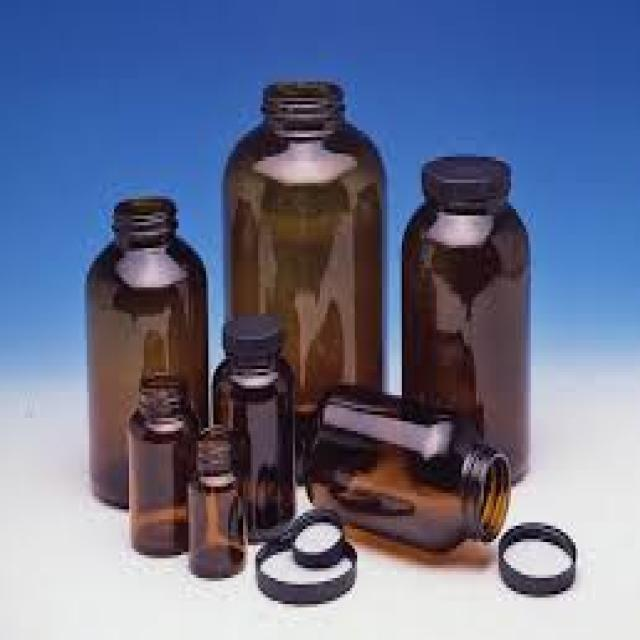glass: (218, 75, 382, 487), (82, 193, 206, 513), (402, 196, 526, 486), (300, 382, 509, 552), (211, 353, 293, 539), (124, 373, 196, 559), (186, 425, 241, 575)
plastic: (253, 535, 355, 601), (496, 519, 573, 591), (419, 147, 506, 206), (221, 310, 280, 369), (291, 506, 343, 565)
